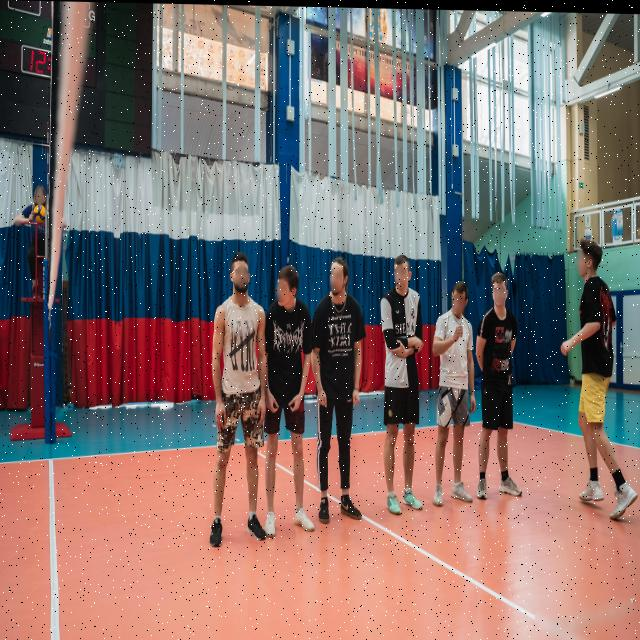Person: (567, 235, 638, 528), (206, 244, 267, 566), (260, 258, 319, 546), (312, 249, 368, 533), (378, 252, 428, 519), (474, 266, 522, 512), (434, 277, 476, 518)
